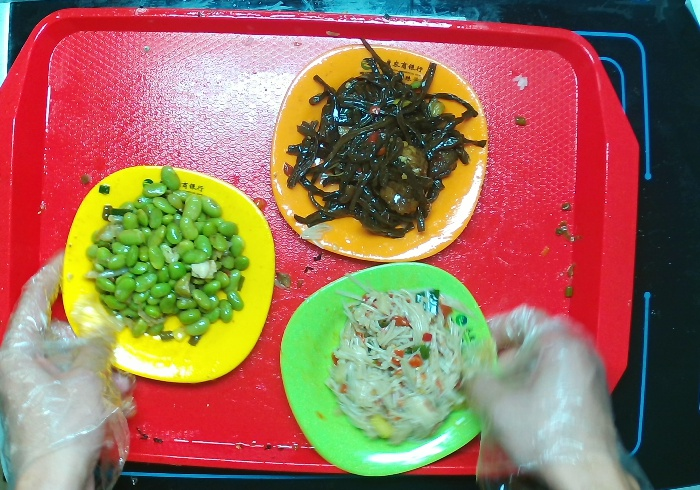YKMZ-Huang_Se_Fang_Die: (61, 164, 277, 385)
YKMZ-Ju_Se_Fang_Die: (269, 43, 489, 264)
YKMZ-Lv_Se_Fang_Die: (278, 260, 500, 477)
